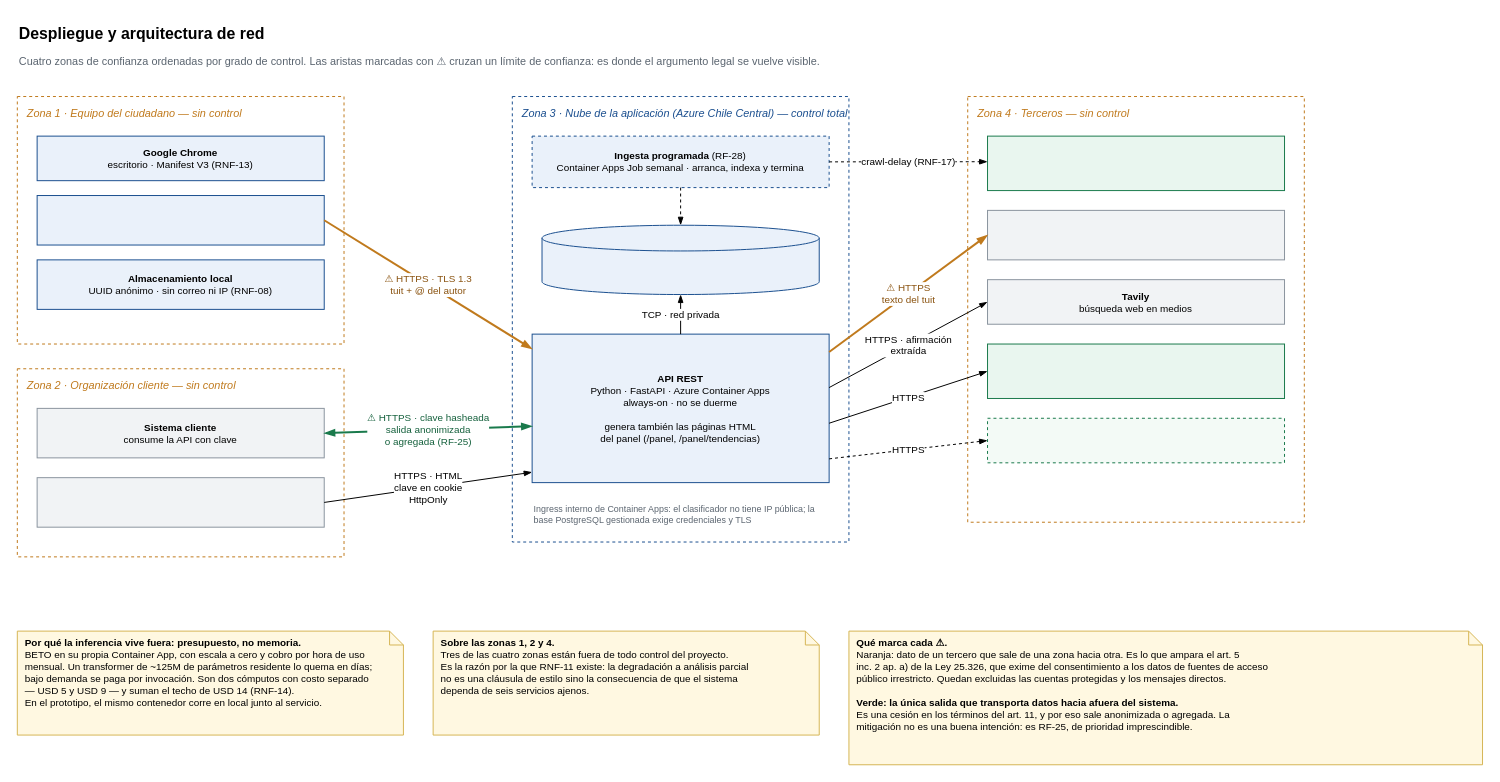
The diagram is 1500 pixels wide and 782 high, and some of its shapes have lost their labels. The centre of each missing label's shape, as x and y in pixels:
"Analista navegador · panel de tendencias de la API" goes at [180,502].
"Extensión content script + service worker" goes at [180,220].
"Fuentes oficiales InfoLEG · INDEC · BCRA Boletín Oficial · MSal · MinEdu" goes at [1136,163].
"Medios de referencia Infobae · Clarín · La Nación · Página/12 · Télam" goes at [1136,370].
"PostgreSQL 16 + pgvector gestionado · índice HNSW" goes at [680,259].
"Servicio de inferencia · BETO CPU · en el prototipo, proceso local" goes at [1136,234].
"Verificadores indexados, sin acceso directo" goes at [1136,440].
